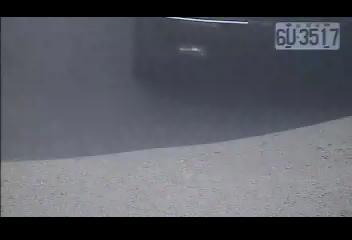plate: (272, 20, 342, 52)
